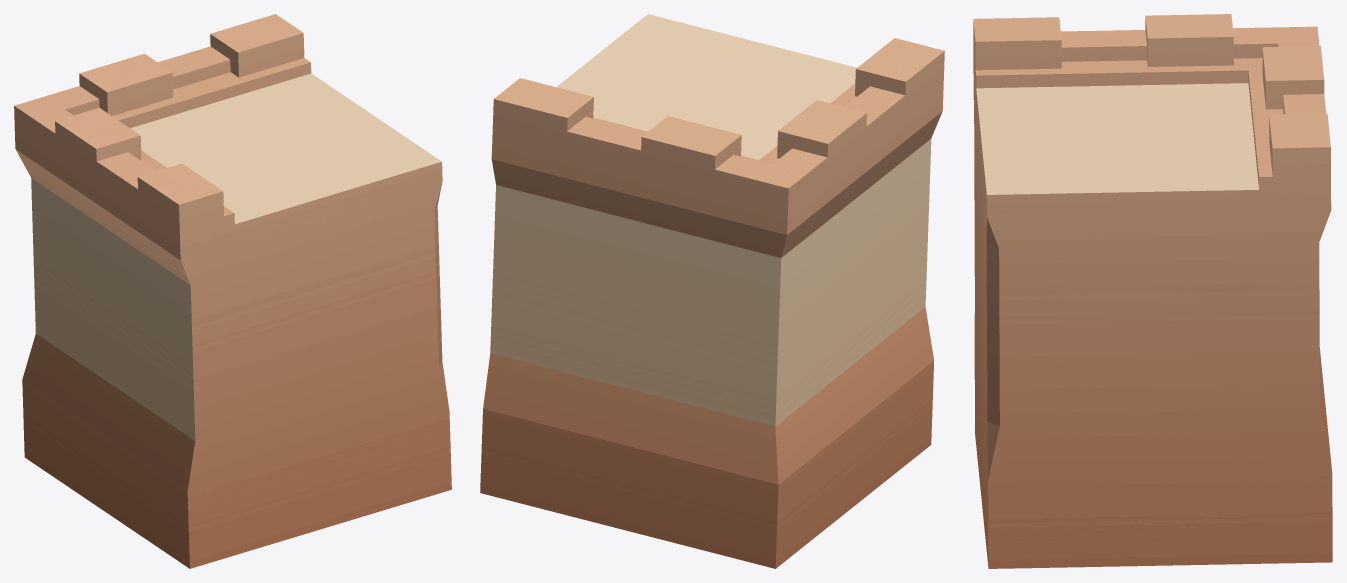
Rendered from wall-corner-half.003_lev3.glb.
3 renders of one model, left to right at view 1: azimuth 30°, elevation 25°; view 2: azimuth 150°, elevation 25°; view 3: azimuth 270°, elevation 25°, orthographic. The views are drawn at different scales.
Visible parts, largest first — view 1: wall-corner-half.003_lev3; view 2: wall-corner-half.003_lev3; view 3: wall-corner-half.003_lev3.
Part boxes in pixels (x1,y1,x2,y2): wall-corner-half.003_lev3: (14,14,451,568); wall-corner-half.003_lev3: (480,14,944,568); wall-corner-half.003_lev3: (973,14,1332,568).
Bounding box in the file's own units: 6.42 × 7.99 × 6.2.
1 material, 1 textured.
